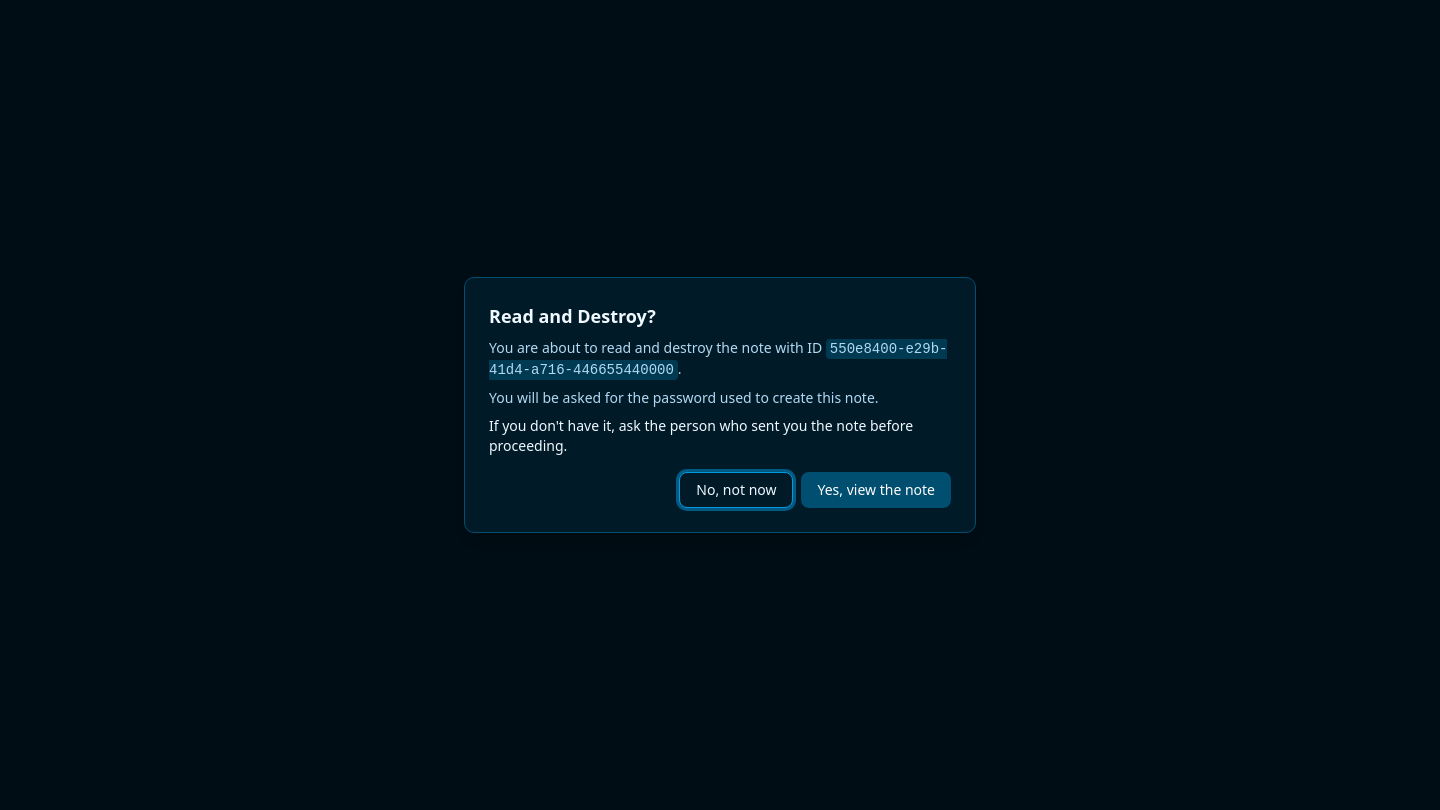
Test: NotePage › shows password form when note is protected
Expected: the dialog is shown, [464,277,976,533]
Click the button "Yes, view the note": (876, 490) [802,472,951,508]
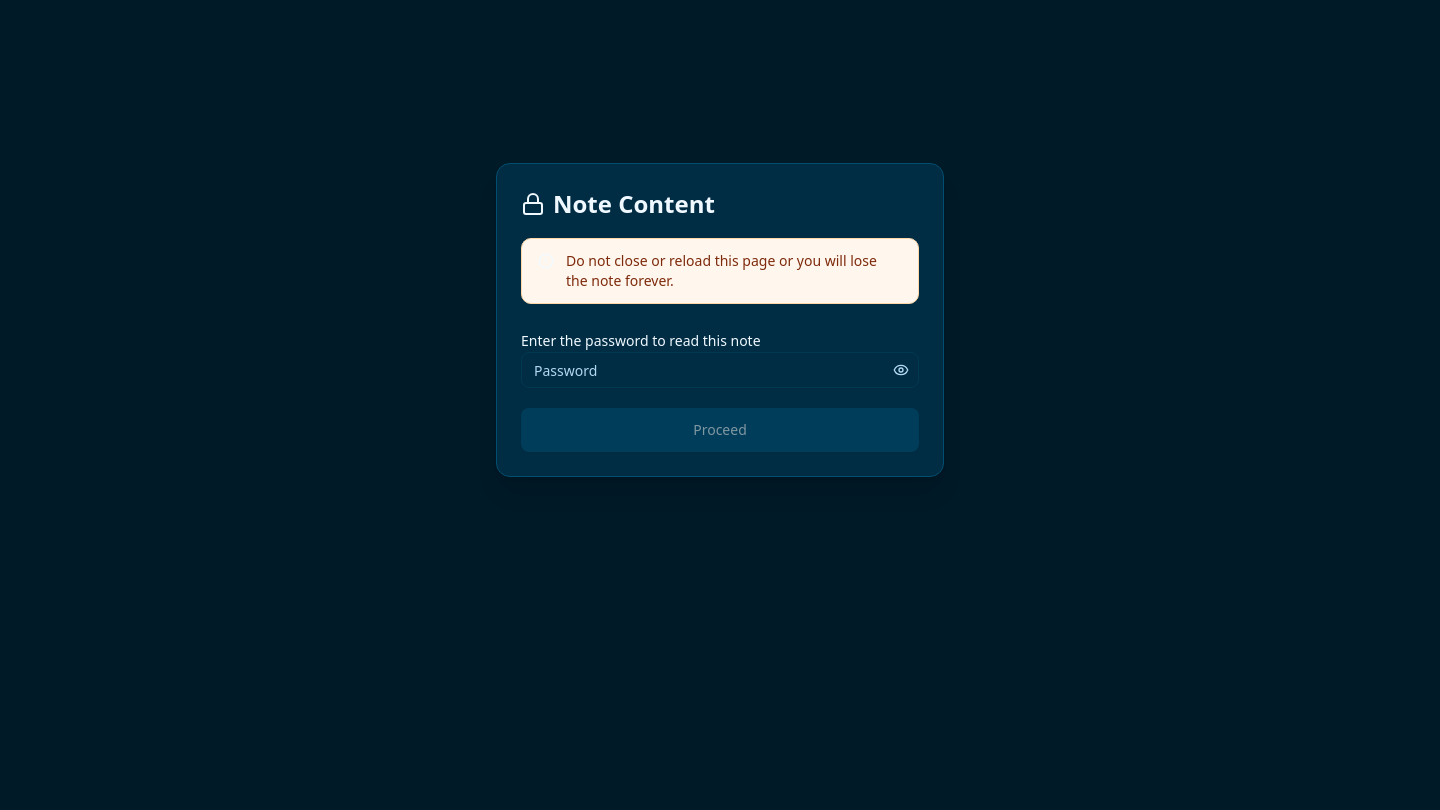
Expected: the password field labelled "Enter the password to read this note" is shown, [521,352,919,388]
